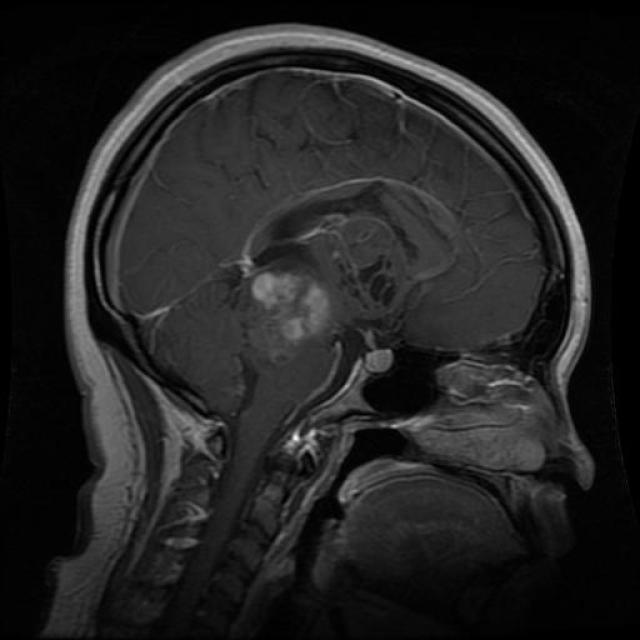glioma: (245, 261, 341, 349)
